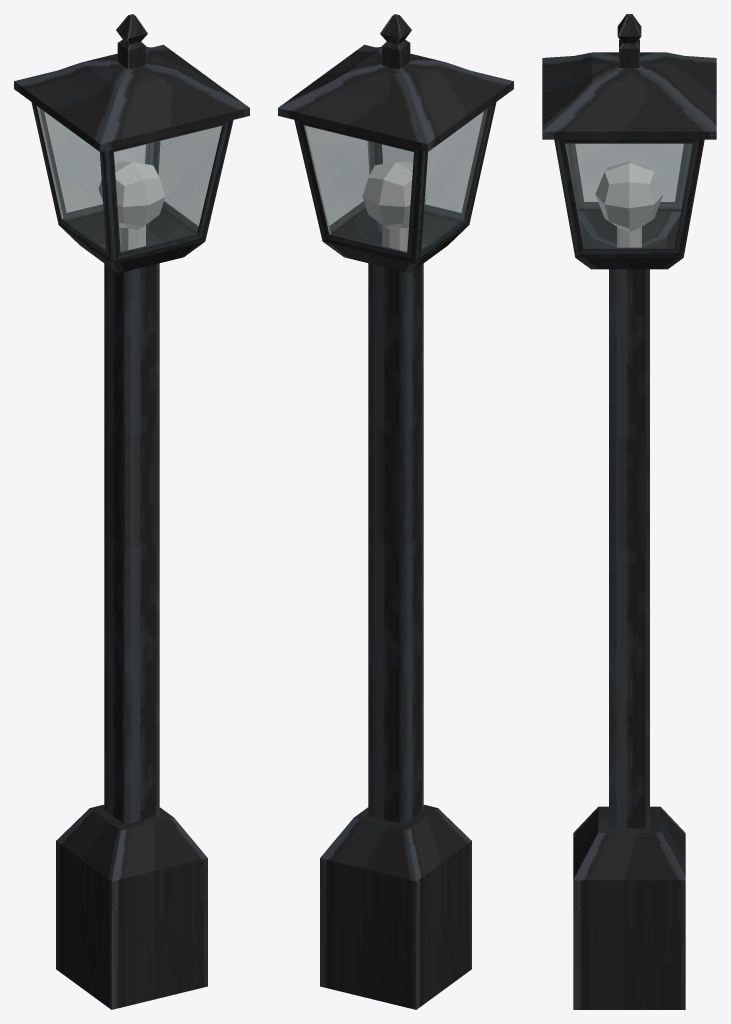
File: street lamp (2).fbx
The picture shows the model from 3 angles, left to right: view 1: azimuth 30°, elevation 25°; view 2: azimuth 150°, elevation 25°; view 3: azimuth 270°, elevation 25°; orthographic projection.
Visible parts, largest first — view 1: 기둥, 기둥받침, 램프케이스.2, 유리, 램프케이스, Light; view 2: 기둥, 기둥받침, 램프케이스.2, 유리, 램프케이스, Light; view 3: 기둥, 기둥받침, 램프케이스.2, 유리, 램프케이스, Light.
Boxes of the visible parts, left/top/right/bottom form: 기둥: left=104, top=263, right=159, bottom=824; 기둥받침: left=56, top=804, right=207, bottom=1009; 램프케이스.2: left=14, top=14, right=249, bottom=152; 유리: left=39, top=108, right=221, bottom=251; 램프케이스: left=31, top=102, right=233, bottom=273; Light: left=98, top=161, right=165, bottom=251; 기둥: left=368, top=263, right=423, bottom=824; 기둥받침: left=320, top=804, right=471, bottom=1009; 램프케이스.2: left=278, top=14, right=513, bottom=152; 유리: left=306, top=108, right=488, bottom=251; 램프케이스: left=294, top=102, right=496, bottom=273; Light: left=362, top=161, right=429, bottom=251; 기둥: left=609, top=269, right=649, bottom=828; 기둥받침: left=573, top=806, right=685, bottom=1009; 램프케이스.2: left=542, top=14, right=716, bottom=139; 유리: left=566, top=143, right=692, bottom=247; 램프케이스: left=554, top=139, right=704, bottom=269; Light: left=595, top=161, right=663, bottom=247.
Size of the model in its own units: 67.79 by 417 by 67.79.
3 materials, 2 textured.
